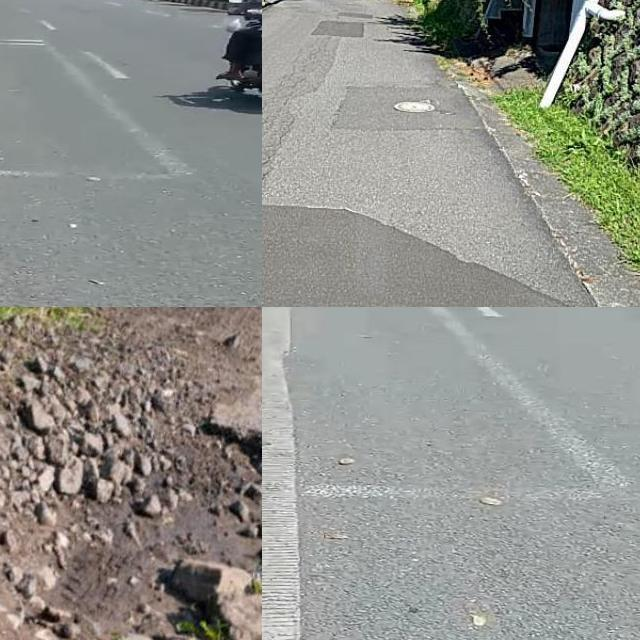Pinggir: (112, 394, 262, 640)
Sambungan: (262, 207, 574, 307), (314, 16, 362, 40)
